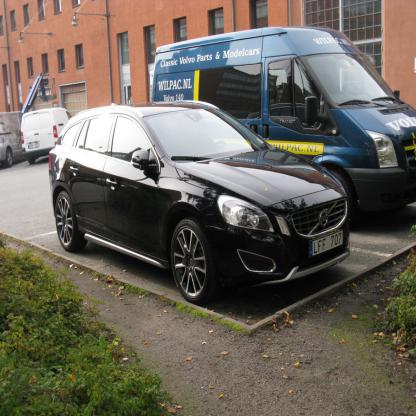Car: (48, 102, 350, 304), (21, 108, 72, 164)
